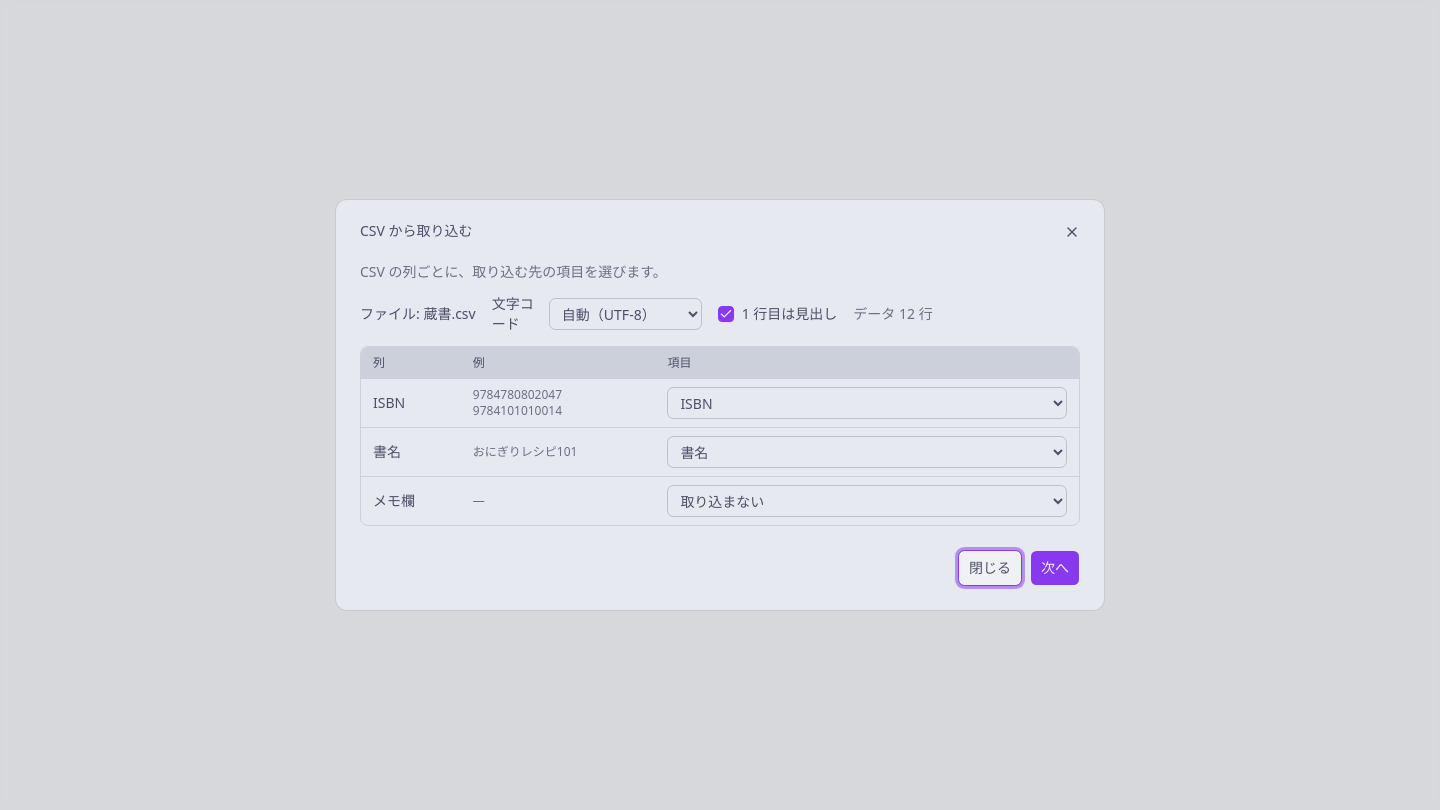
it: 列の対応 › 「1 行目は見出し」を外すと、見出しなしで読み直し「N 列目」と出す
Expected: the text "データ 12 行" is shown, [853,304,933,324]
Click the checkbox named "1 行目は見出し" at (726, 314), box [718,306,734,322]
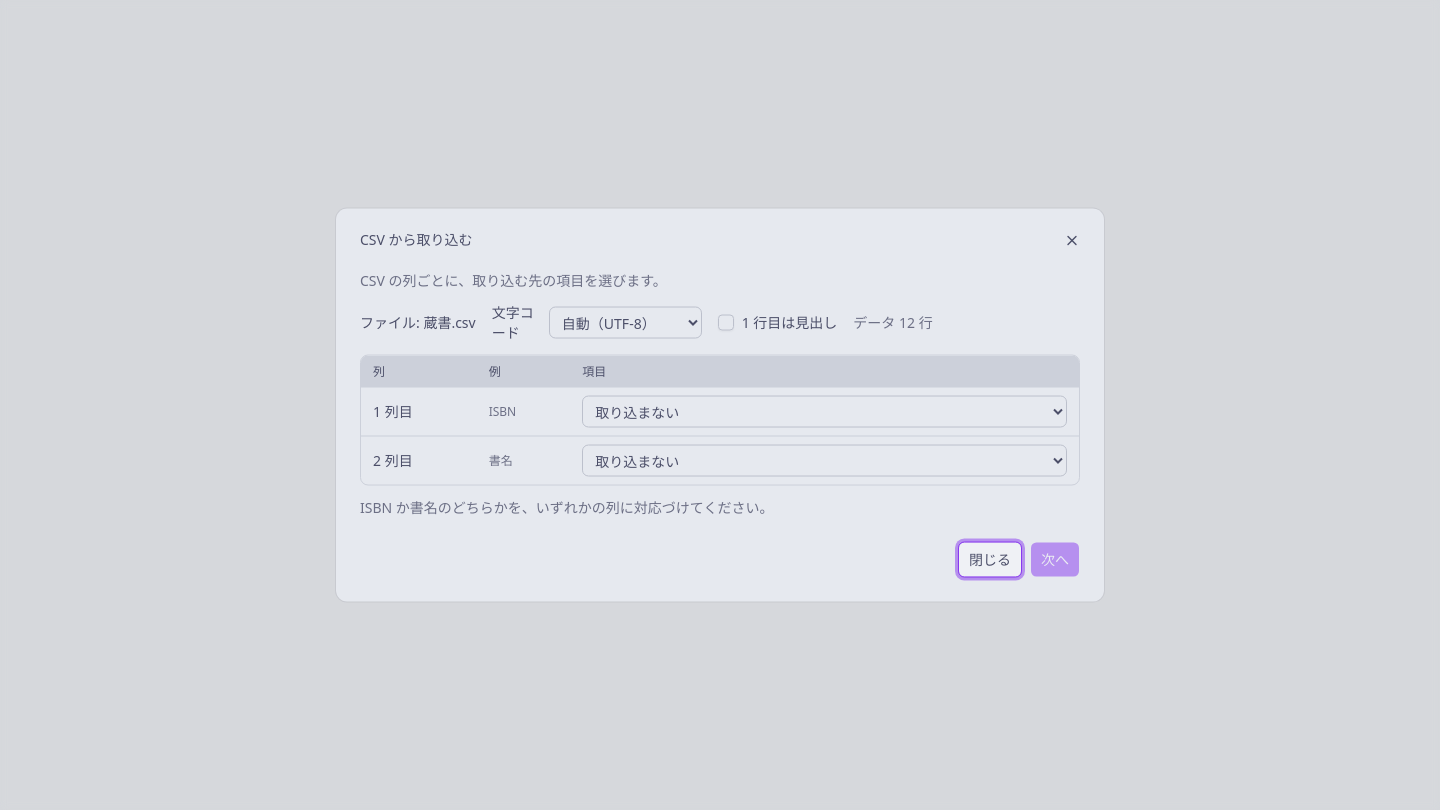
Now the column heading "1 列目" is shown, box [361,388,477,436]
Now the column heading "2 列目" is shown, box [361,436,477,484]
Now the button "次へ" is disabled, box [1030,542,1080,578]
